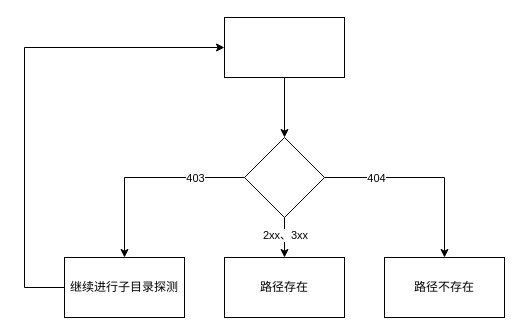
Some shapes in this 522 by 335 pixel diagram are drawn without their labels. Each missing label, with the centre of its shape:
"request" goes at pixel 284 47.
"status code" goes at pixel 284 177.
